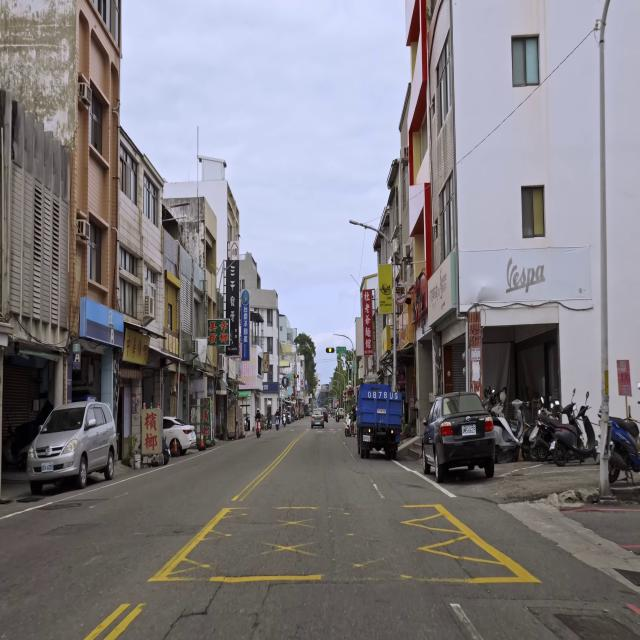yellow light: (326, 347, 334, 353), (293, 374, 299, 378)
